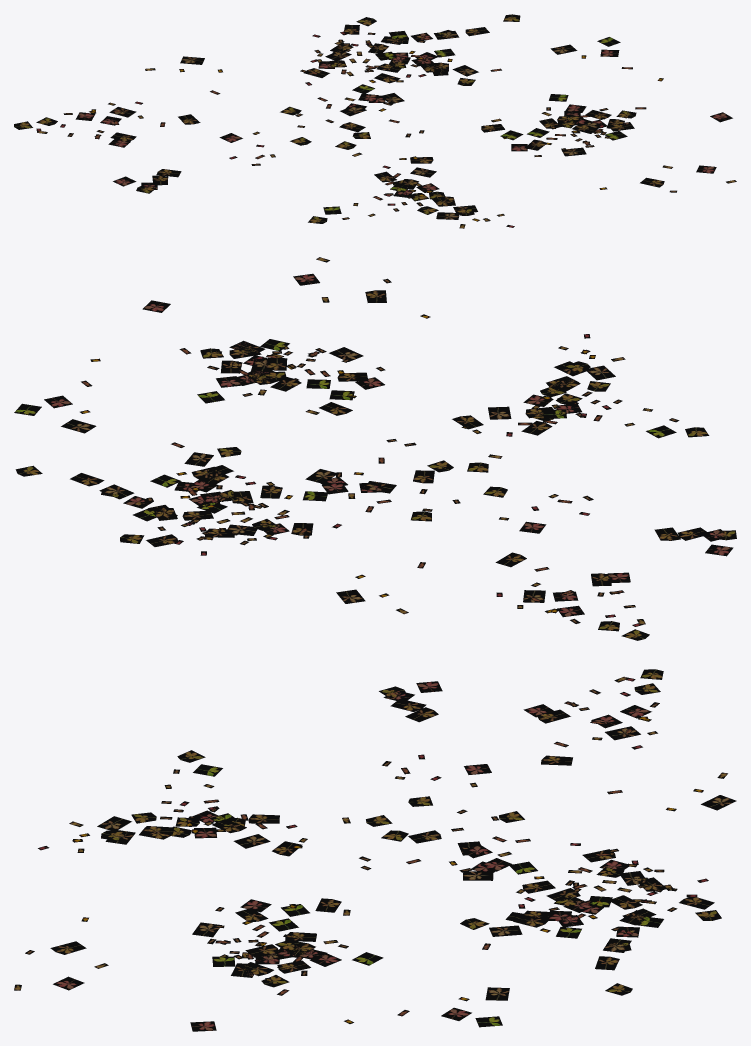
The model's file is leaf_pile_2.fbx.
The picture shows the model from 3 angles, top to bottom: view 1: azimuth 30°, elevation 25°; view 2: azimuth 150°, elevation 25°; view 3: azimuth 270°, elevation 25°; orthographic projection. The views are drawn at different scales.
Visible parts, largest first — view 1: leaf_pile_2; view 2: leaf_pile_2; view 3: leaf_pile_2.
Boxes of the visible parts, <box> form: leaf_pile_2: <box>14,14,736,228</box>; leaf_pile_2: <box>14,257,736,640</box>; leaf_pile_2: <box>14,669,736,1031</box>.
Bounding box in the file's own units: 92.67 × 1.36e-06 × 78.12.
